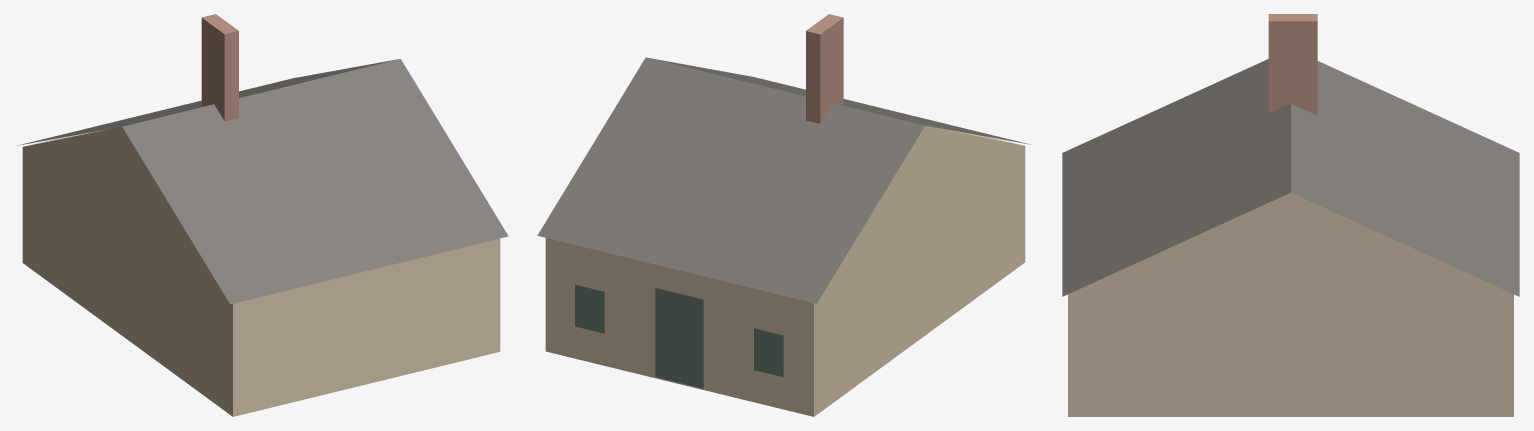
File: recon_1835_north_d5_026__recommended_1835.glb
The picture shows the model from 3 angles, left to right: view 1: azimuth 30°, elevation 25°; view 2: azimuth 150°, elevation 25°; view 3: azimuth 270°, elevation 25°; orthographic projection. The views are drawn at different scales.
Parts seen in each view (by area): view 1: recon_1835_north_d5_026__recommended_1835; view 2: recon_1835_north_d5_026__recommended_1835; view 3: recon_1835_north_d5_026__recommended_1835.
Part boxes in pixels (box(x1,y1,x2,y2)): recon_1835_north_d5_026__recommended_1835: box(16, 14, 508, 416); recon_1835_north_d5_026__recommended_1835: box(537, 14, 1031, 416); recon_1835_north_d5_026__recommended_1835: box(1062, 14, 1519, 416).
Bounding box in the file's own units: 6.99 × 7 × 9.38.
